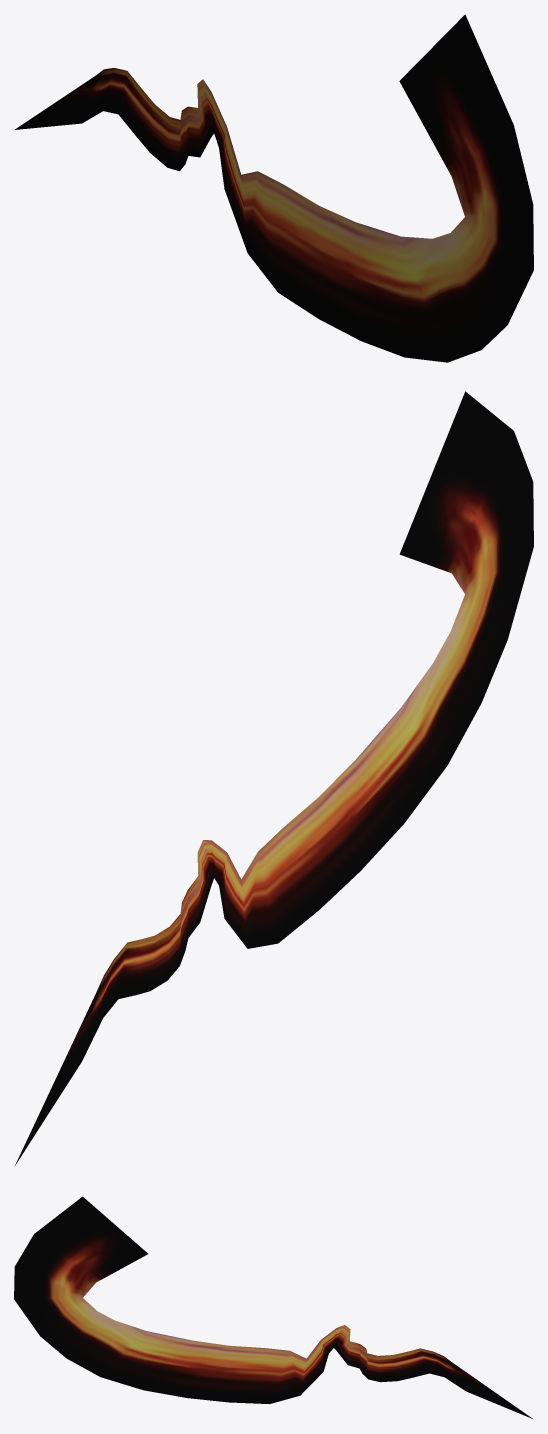
Rendered from linghunzhiren002.fbx.
3 renders of one model, top to bottom at view 1: azimuth 30°, elevation 25°; view 2: azimuth 150°, elevation 25°; view 3: azimuth 270°, elevation 25°, orthographic. The views are drawn at different scales.
Parts seen in each view (by area): view 1: linghunzhiren002; view 2: linghunzhiren002; view 3: linghunzhiren002.
Boxes of the visible parts, x1=… form: linghunzhiren002: x1=14, y1=14, x2=533, y2=362; linghunzhiren002: x1=14, y1=391, x2=533, y2=1166; linghunzhiren002: x1=14, y1=1196, x2=532, y2=1418.
Bounding box in the file's own units: 0.0437 × 201 × 425.
1 material, 1 textured.
